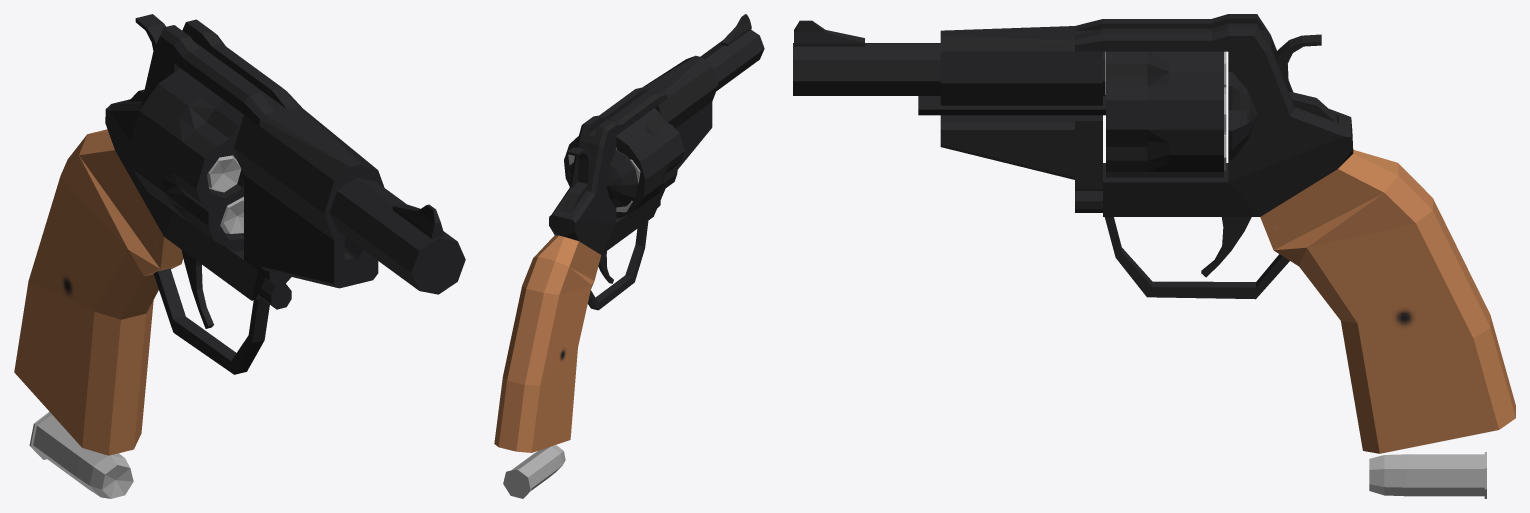
Rendered from Revolver.fbx.
The picture shows the model from 3 angles, left to right: view 1: azimuth 30°, elevation 25°; view 2: azimuth 150°, elevation 25°; view 3: azimuth 270°, elevation 25°; orthographic projection. The views are drawn at different scales.
Visible parts, largest first — view 1: Body, Cylender, Barrle, BulletExtra, ShellExtra, Bullet5, Arm, Trigger, Bullet4, Hammer; view 2: Body, Cylender, Barrle, ShellExtra, Hammer, BulletExtra; view 3: Body, Cylender, Barrle, ShellExtra, Arm, rod, BulletExtra, Hammer, Trigger.
Part boxes in pixels (<box>): Body: <box>14,19,384,455</box>; Cylender: <box>130,68,243,252</box>; Barrle: <box>329,177,465,294</box>; BulletExtra: <box>76,450,133,498</box>; ShellExtra: <box>29,412,88,487</box>; Bullet5: <box>207,155,241,192</box>; Arm: <box>258,271,291,309</box>; Trigger: <box>181,250,213,328</box>; Bullet4: <box>220,196,243,233</box>; Hammer: <box>128,14,165,101</box>; Body: <box>494,55,718,452</box>; Cylender: <box>564,108,684,217</box>; Barrle: <box>700,14,764,90</box>; ShellExtra: <box>503,451,555,498</box>; Hammer: <box>562,147,592,212</box>; BulletExtra: <box>534,445,565,476</box>; Body: <box>940,14,1515,453</box>; Cylender: <box>1106,51,1223,177</box>; Barrle: <box>793,20,1105,95</box>; ShellExtra: <box>1407,452,1486,498</box>; Arm: <box>1075,115,1102,212</box>; rod: <box>918,95,1105,115</box>; BulletExtra: <box>1369,454,1406,496</box>; Hammer: <box>1274,34,1336,122</box>; Trigger: <box>1201,217,1251,277</box>.
Size of the model in its own units: 5.97 by 22.06 by 30.54.
